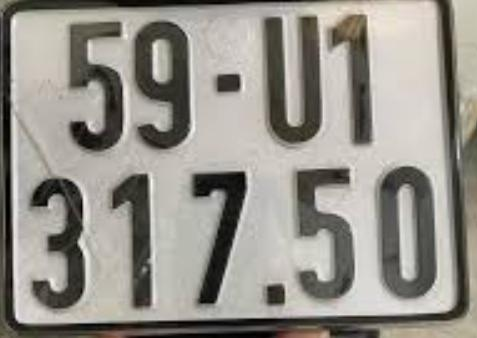-: (214, 70, 244, 96)
.: (266, 282, 284, 303)
0: (374, 167, 438, 299)
1: (331, 7, 380, 149), (110, 170, 158, 309)
3: (32, 177, 87, 314)
5: (293, 167, 361, 297), (63, 21, 128, 152)
7: (187, 165, 249, 313)
9: (135, 15, 197, 149)
U: (257, 11, 325, 153)
